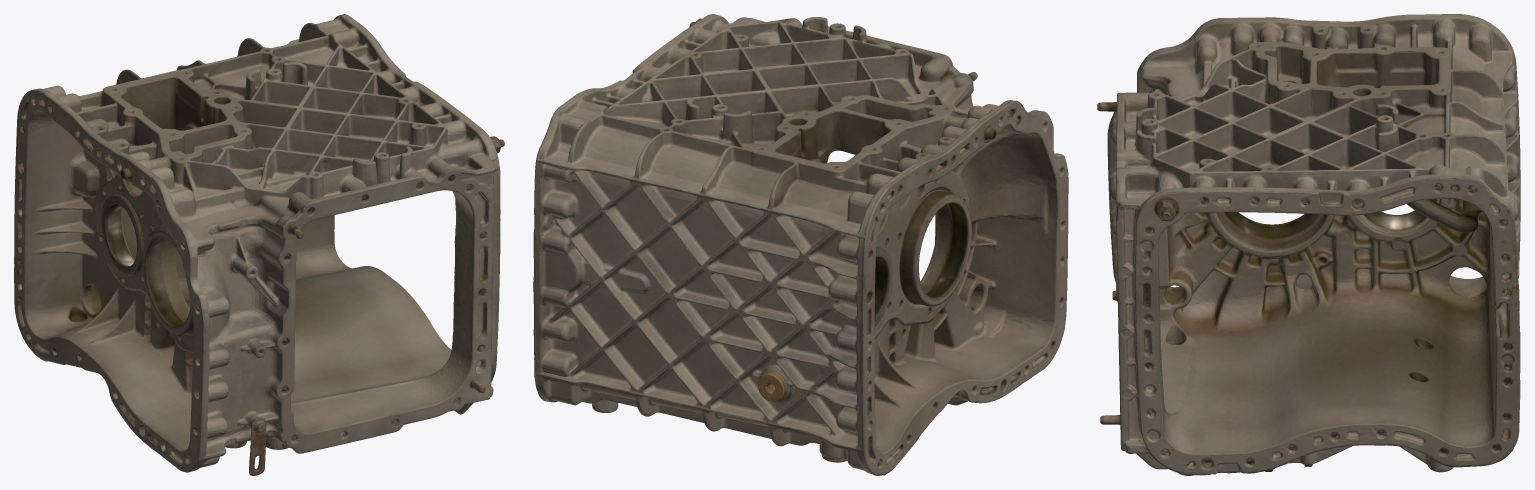
File: transmission.glb
The picture shows the model from 3 angles, left to right: view 1: azimuth 30°, elevation 25°; view 2: azimuth 150°, elevation 25°; view 3: azimuth 270°, elevation 25°; orthographic projection. The views are drawn at different scales.
Visible parts, largest first — view 1: material_0; view 2: material_0; view 3: material_0.
Part boxes in pixels (x1=…): material_0: x1=14, y1=14, x2=504, y2=475; material_0: x1=533, y1=14, x2=1068, y2=475; material_0: x1=1097, y1=14, x2=1520, y2=475.
Bounding box in the file's own units: 535 × 443 × 545.
Materials: 1 (1 with a texture image).
